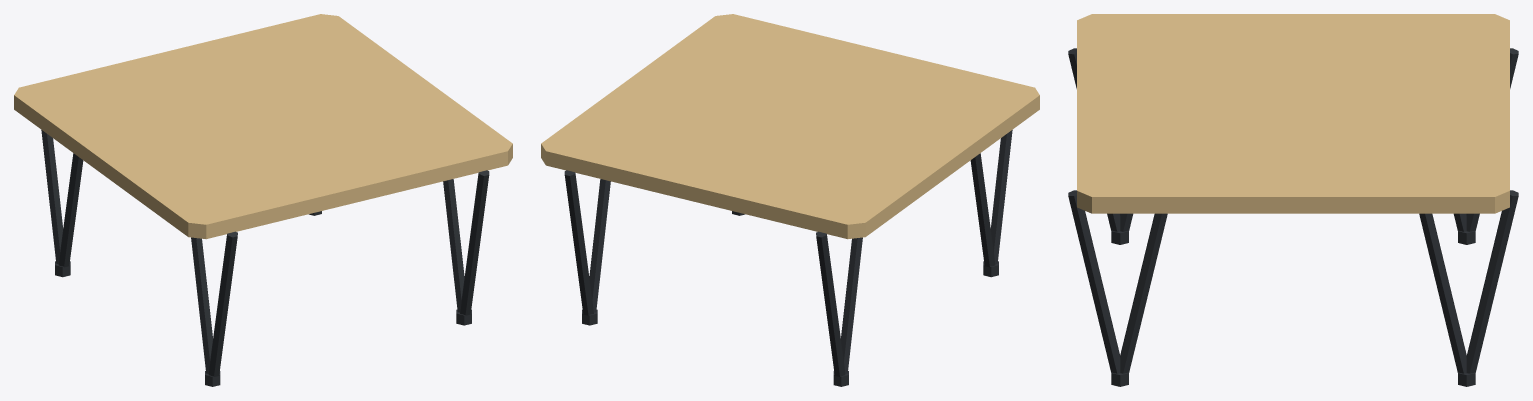
File: SM_LPI_Table_Coffee_06.fbx
The picture shows the model from 3 angles, left to right: view 1: azimuth 30°, elevation 25°; view 2: azimuth 150°, elevation 25°; view 3: azimuth 270°, elevation 25°; orthographic projection. The views are drawn at different scales.
Visible parts, largest first — view 1: SM_LPI_Table_Coffee_06; view 2: SM_LPI_Table_Coffee_06; view 3: SM_LPI_Table_Coffee_06.
Part boxes in pixels (x1,y1,x2,y2): SM_LPI_Table_Coffee_06: [14, 14, 512, 386]; SM_LPI_Table_Coffee_06: [541, 14, 1039, 386]; SM_LPI_Table_Coffee_06: [1068, 14, 1518, 386].
Size of the model in its own units: 0.8 by 0.4224 by 0.832.
